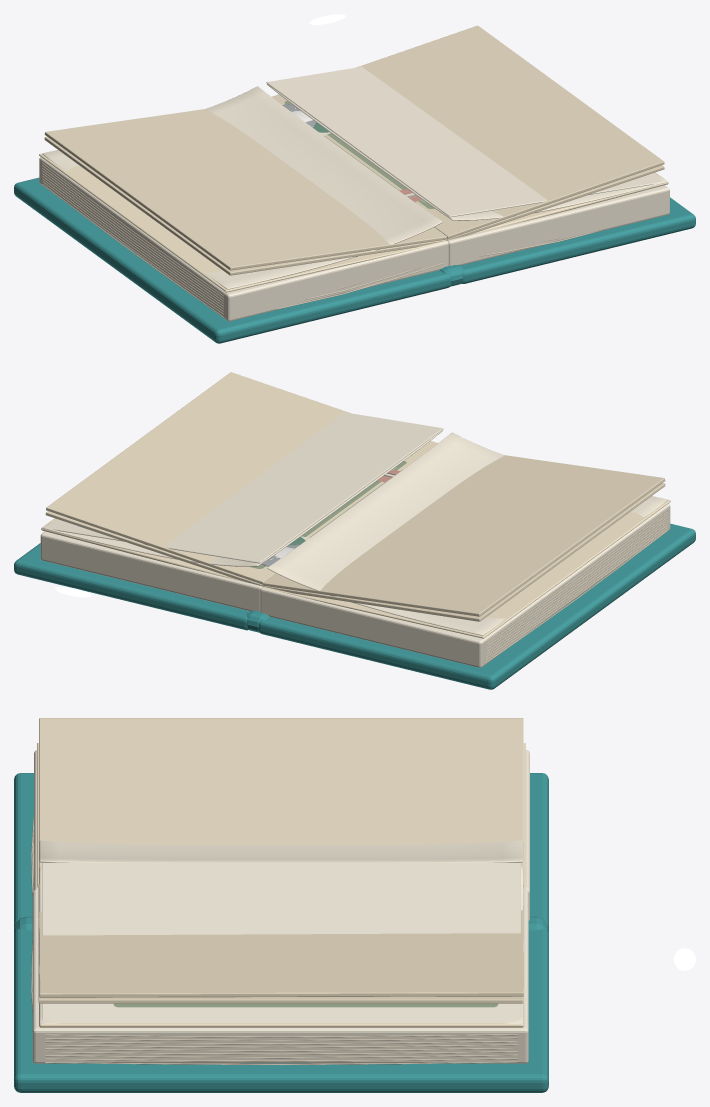
Rendered from pagescape-book.glb.
3 renders of one model, top to bottom at view 1: azimuth 30°, elevation 25°; view 2: azimuth 150°, elevation 25°; view 3: azimuth 270°, elevation 25°, orthographic. The views are drawn at different scales.
Visible parts, largest first — view 1: TopPage_Left.001, TopPage_Right.001, Animated_Flip_Page, HD_TopPage_Left, Pages_Left, Cover_Left, Pages_Right, Cover_Right, PageLayer_Left_02, TopPage_Left, HD_TopPage_Right, TopPage_Right (+1 smaller); view 2: TopPage_Left.001, TopPage_Right.001, Animated_Flip_Page, HD_TopPage_Left, Pages_Left, Cover_Left, Pages_Right, Cover_Right, PageLayer_Left_02, TopPage_Left, HD_TopPage_Right, TopPage_Right (+1 smaller); view 3: TopPage_Left.001, Animated_Flip_Page, TopPage_Right.001, Cover_Right, Pages_Right, HD_TopPage_Left, Cover_Left, TopPage_Right, PageLayer_Right_02, Terrain_Right, Pages_Left, PageEdgeOuter_R_03 (+9 smaller).
Boxes of the visible parts, box(x1,y1,x2,y2) form: TopPage_Left.001: box(44, 109, 447, 270); TopPage_Right.001: box(272, 25, 664, 238); Animated_Flip_Page: box(266, 67, 661, 217); HD_TopPage_Left: box(42, 86, 442, 289); Pages_Left: box(39, 157, 448, 321); Cover_Left: box(14, 177, 451, 343); Pages_Right: box(448, 185, 669, 265); Cover_Right: box(460, 197, 695, 283); PageLayer_Left_02: box(39, 153, 445, 292); TopPage_Left: box(44, 136, 447, 275); HD_TopPage_Right: box(267, 84, 667, 220); TopPage_Right: box(447, 165, 664, 240); TopPage_Left.001: box(262, 455, 665, 616); TopPage_Right.001: box(46, 372, 437, 584); Animated_Flip_Page: box(48, 412, 443, 563); HD_TopPage_Left: box(267, 432, 667, 635); Pages_Left: box(260, 503, 670, 667); Cover_Left: box(258, 523, 695, 689); Pages_Right: box(40, 531, 262, 611); Cover_Right: box(14, 543, 249, 630); PageLayer_Left_02: box(264, 499, 670, 638); TopPage_Left: box(262, 483, 665, 621); HD_TopPage_Right: box(42, 430, 442, 566); TopPage_Right: box(45, 511, 262, 586); TopPage_Left.001: box(39, 718, 523, 887); Animated_Flip_Page: box(42, 862, 520, 1022); TopPage_Right.001: box(38, 884, 523, 997); Cover_Right: box(14, 929, 548, 1092); Pages_Right: box(32, 889, 528, 1063); HD_TopPage_Left: box(39, 840, 523, 862); Cover_Left: box(14, 773, 548, 928); TopPage_Right: box(38, 921, 523, 1003); PageLayer_Right_02: box(39, 895, 523, 1027); Terrain_Right: box(113, 1003, 498, 1007); Pages_Left: box(34, 750, 529, 920); PageEdgeOuter_R_03: box(45, 1051, 517, 1054).
Size of the model in its own units: 6.5 by 0.8706 by 6.12.
Materials: 27 (1 with a texture image).
